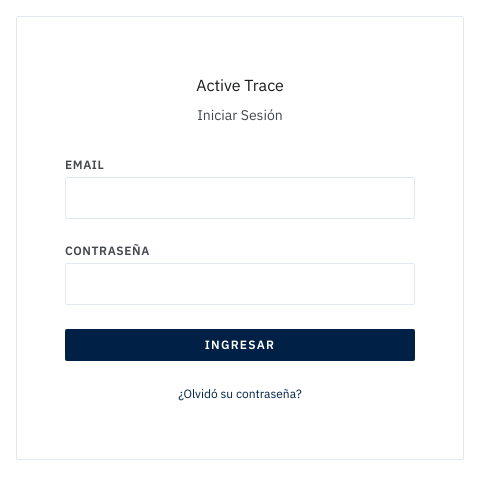
Test: LoginPage › shows loading state during submission
This screenshot has width=481, height=477.
In the field labelled "Email": (240, 198) x1=65 y1=177 x2=415 y2=219, type "test@example.com"
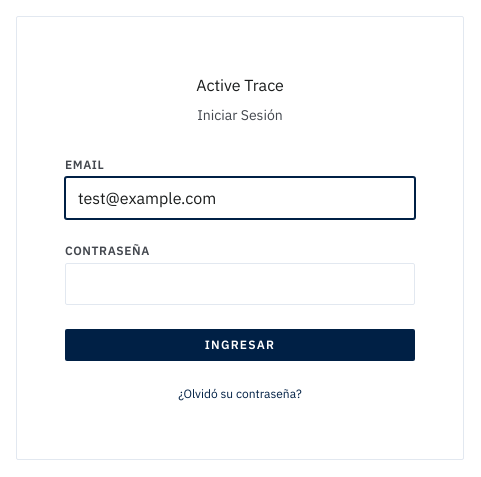
In the password field labelled "Contraseña": (240, 284) x1=65 y1=263 x2=415 y2=305, type "password123"
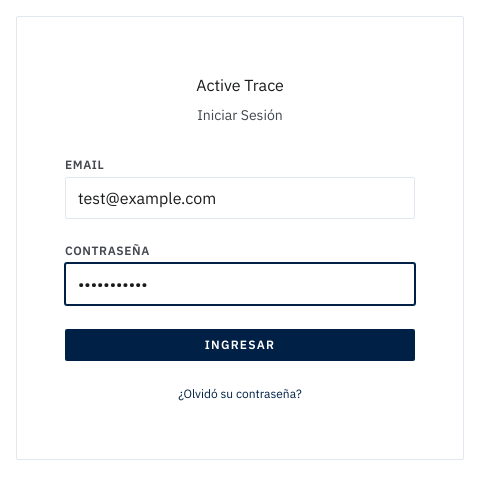
Click the button "Ingresar": (240, 345) x1=65 y1=329 x2=415 y2=361
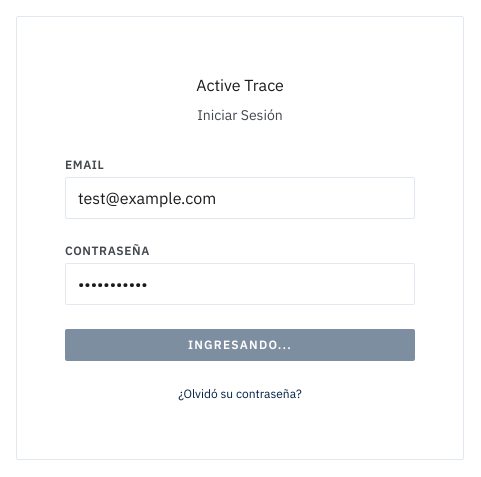
Check: the button "Ingresando..." is disabled, box x1=65 y1=329 x2=415 y2=361
